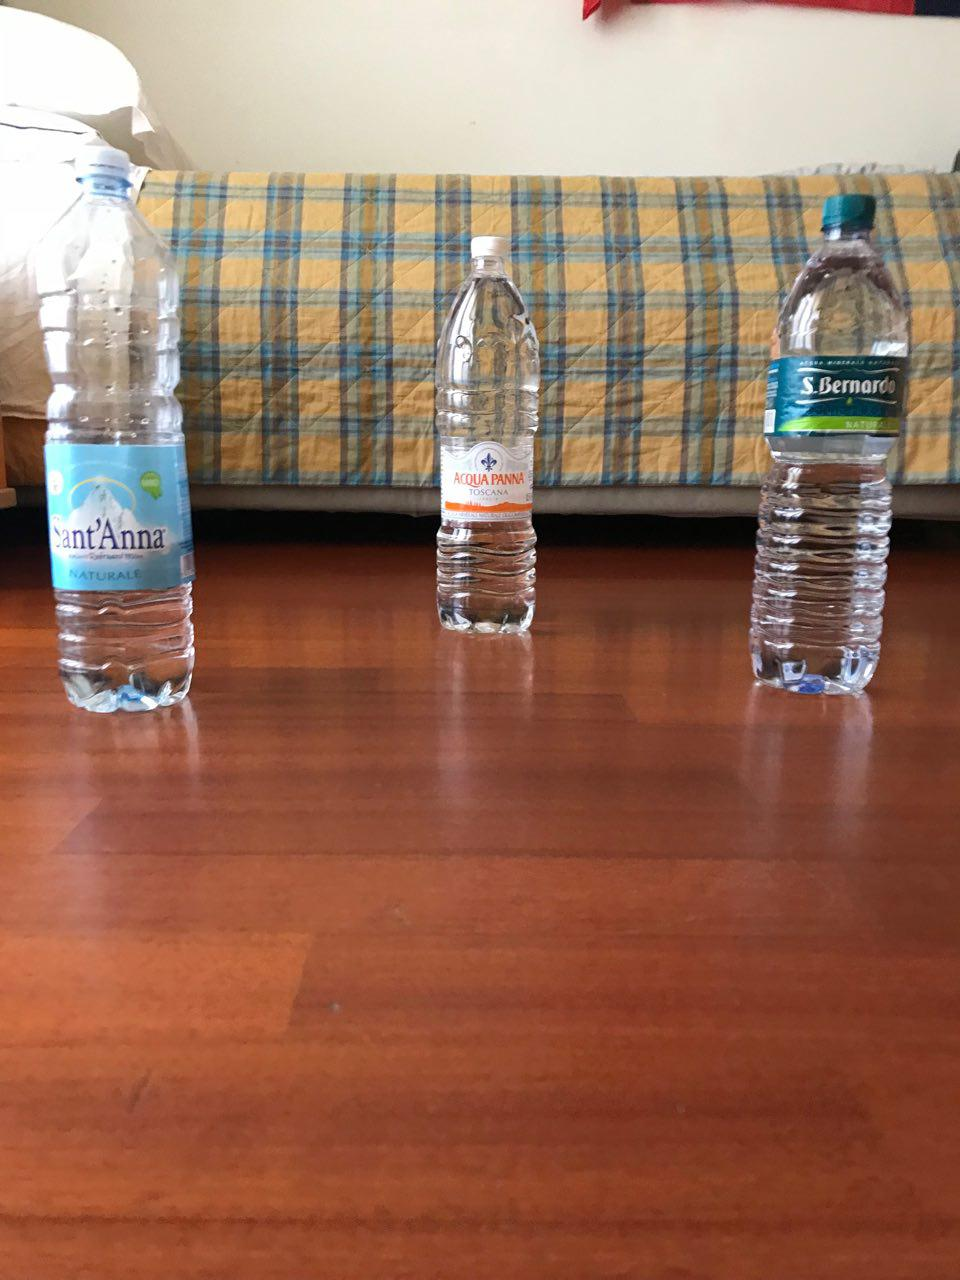san_bernardo: (748, 191, 910, 694)
